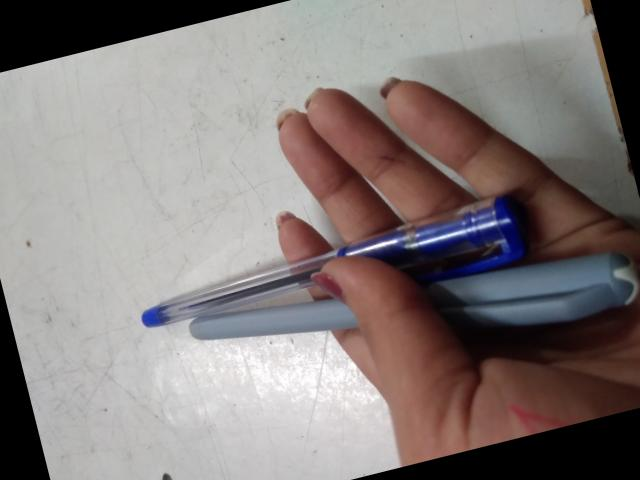PEN: (144, 133, 340, 480), (94, 207, 255, 480)
